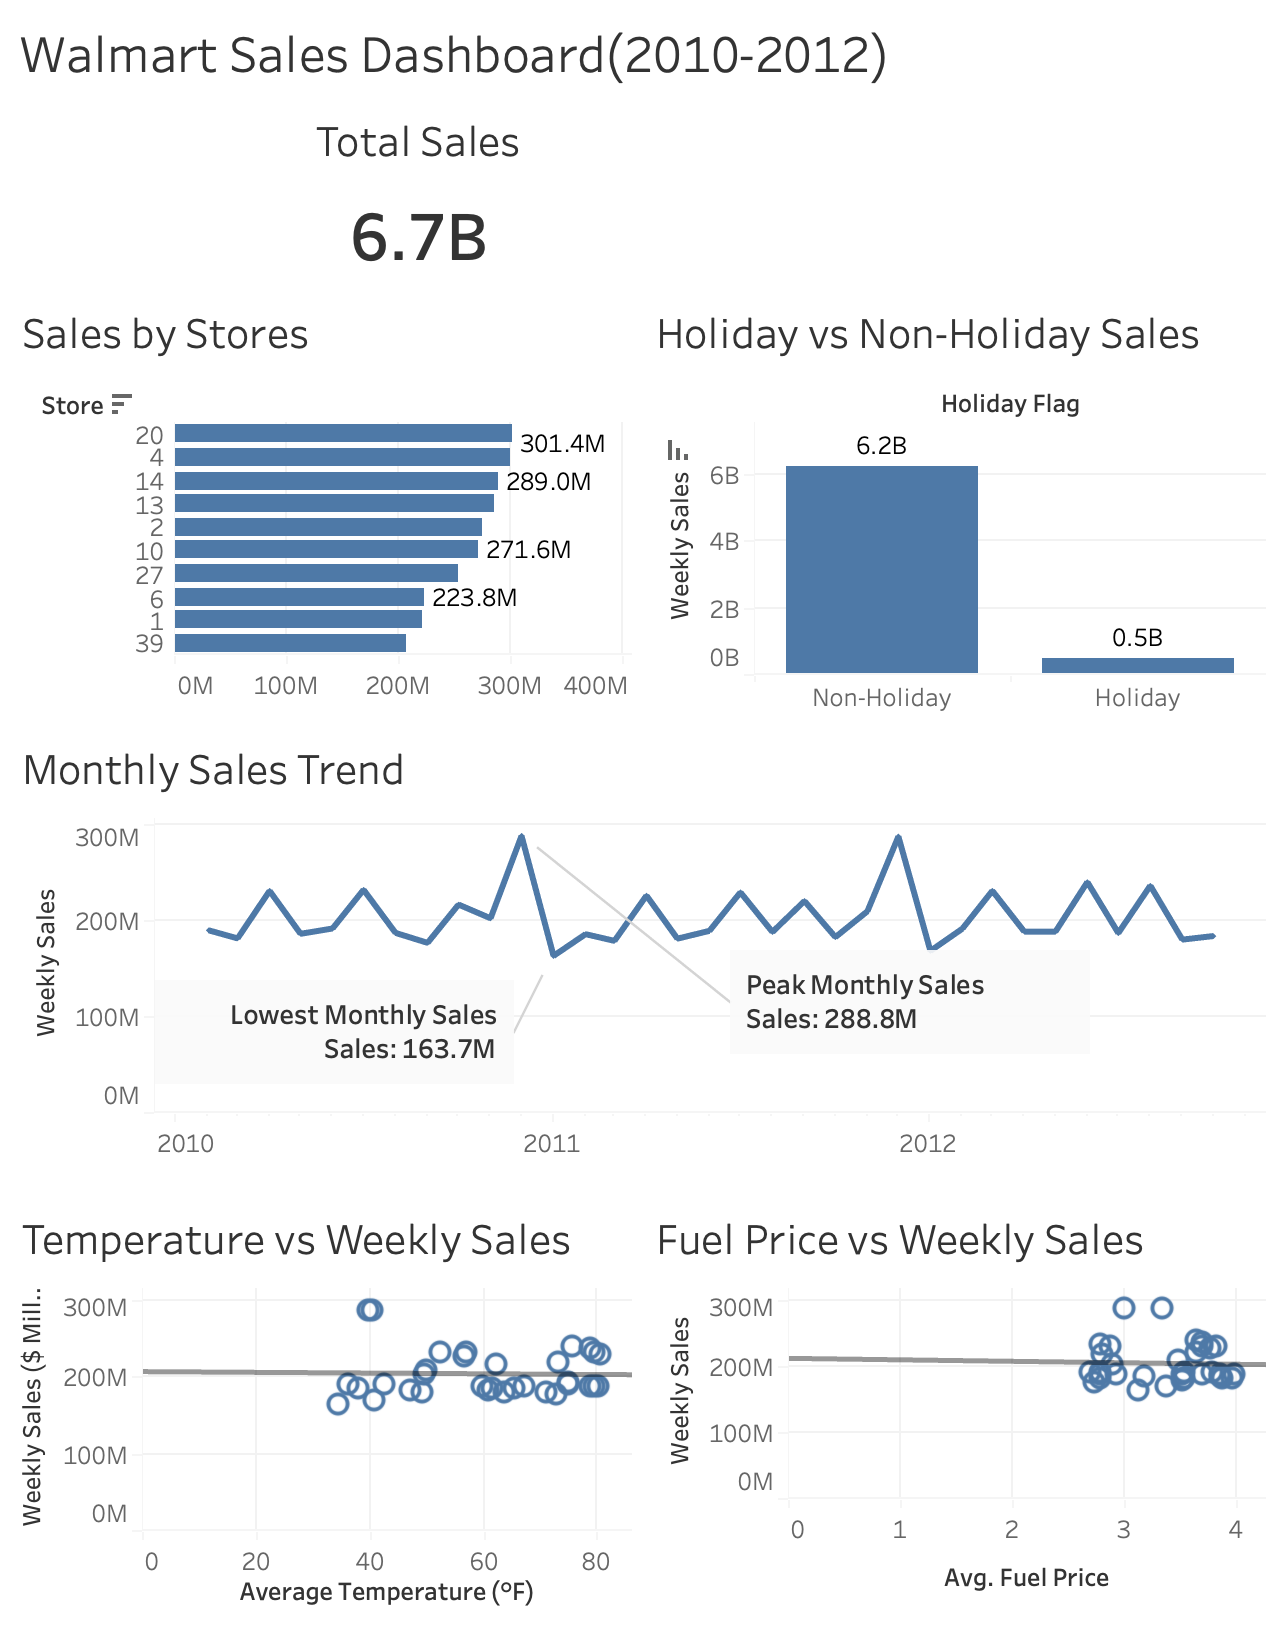

Layout of this report page (visuals, bound fields, positions):
{"tool":"tableau","page":{"name":"Walmart Sales Dashboard(2010-2012)","canvas":[650,860],"ordinal":0},"visuals":[{"type":"title","box":[8,8.4,634,44.2]},{"type":"worksheet","title":"Total Sales","mark":"Automatic","box":[8,52.6,634,100.9]},{"type":"worksheet","title":"Sales by Stores","mark":"Automatic","rows":["Store"],"cols":["Weekly_Sales"],"box":[8,153.5,317,229.1]},{"type":"worksheet","title":"Holiday vs Non-Holiday Sales","mark":"Automatic","rows":["Weekly_Sales"],"cols":["Holiday_Flag"],"box":[325,153.5,317,229.1]},{"type":"worksheet","title":"Monthly Sales Trend","mark":"Automatic","rows":["Weekly_Sales"],"cols":["Date"],"box":[8,382.6,634,247]},{"type":"worksheet","title":"Temperature vs Weekly Sales","mark":"Automatic","rows":["Weekly_Sales"],"cols":["Temperature"],"box":[8,629.6,317,222]},{"type":"worksheet","title":"Fuel Price vs Weekly Sales","mark":"Automatic","rows":["Weekly_Sales"],"cols":["Fuel_Price"],"box":[325,629.6,317,222]}]}

Visuals, with their boxes on the page's 650x860 design canvas (x1, y1, x2, y2). These are canvas units, not pixel positions in the 1288x1632 screenshot, which may show the page scaled, cropped or inside an application window:
title: 8:8:642:53
"Total Sales" worksheet: 8:53:642:154
"Sales by Stores" worksheet: 8:154:325:383
"Holiday vs Non-Holiday Sales" worksheet: 325:154:642:383
"Monthly Sales Trend" worksheet: 8:383:642:630
"Temperature vs Weekly Sales" worksheet: 8:630:325:852
"Fuel Price vs Weekly Sales" worksheet: 325:630:642:852
